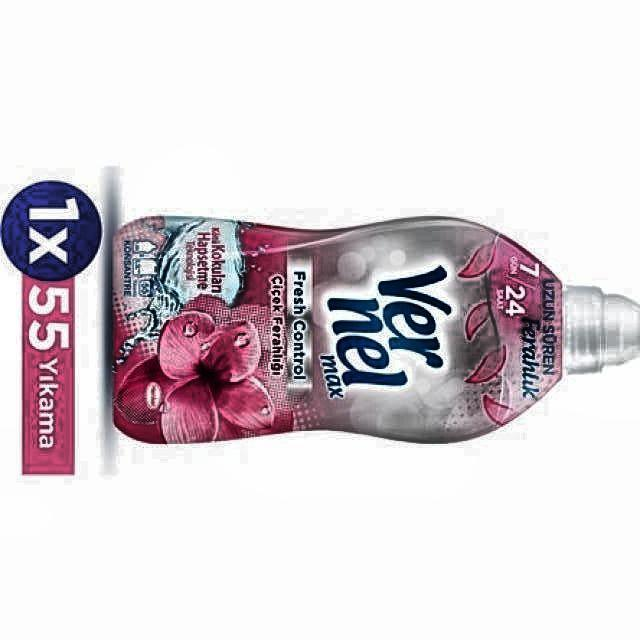plastic: (112, 216, 639, 444)
